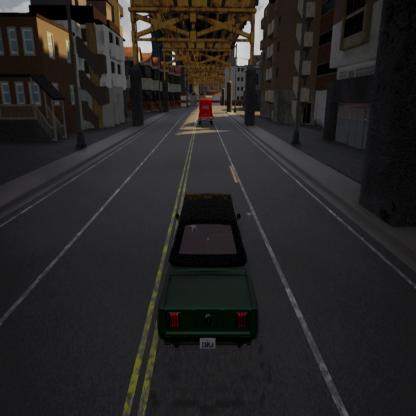Cars: (152, 191, 262, 363), (196, 95, 215, 129)
